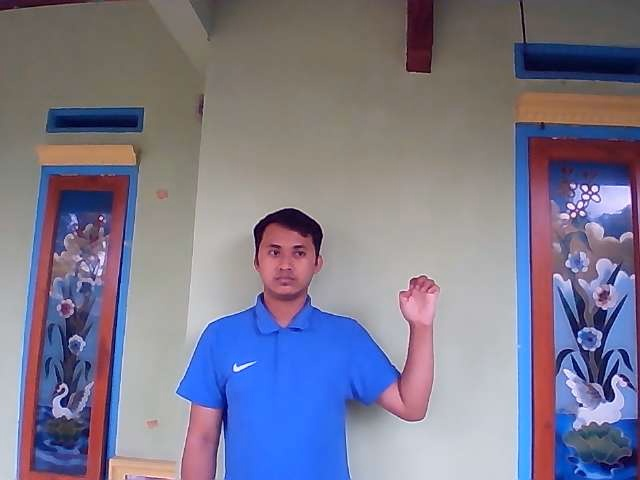E: (397, 274, 441, 326)
